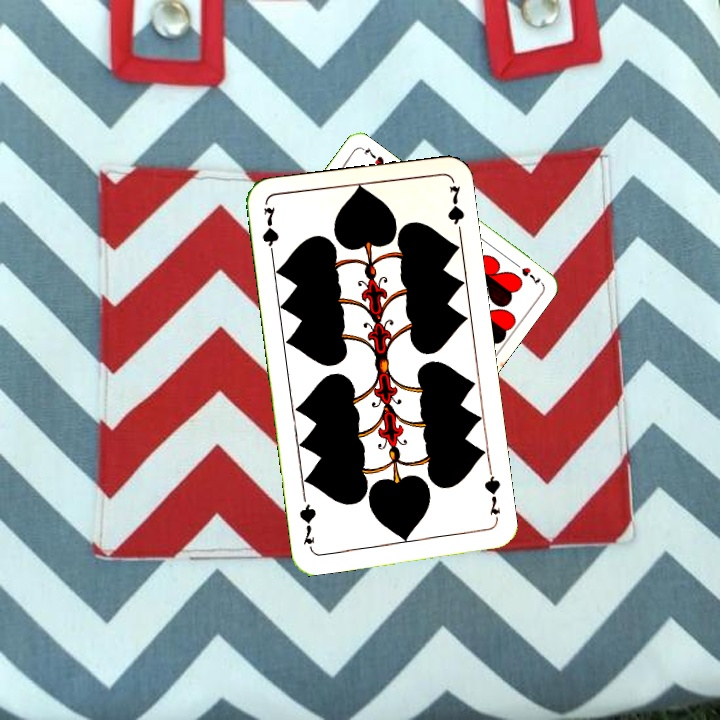G7: (258, 203, 282, 262), (480, 466, 503, 525)
H7: (509, 257, 544, 288)
